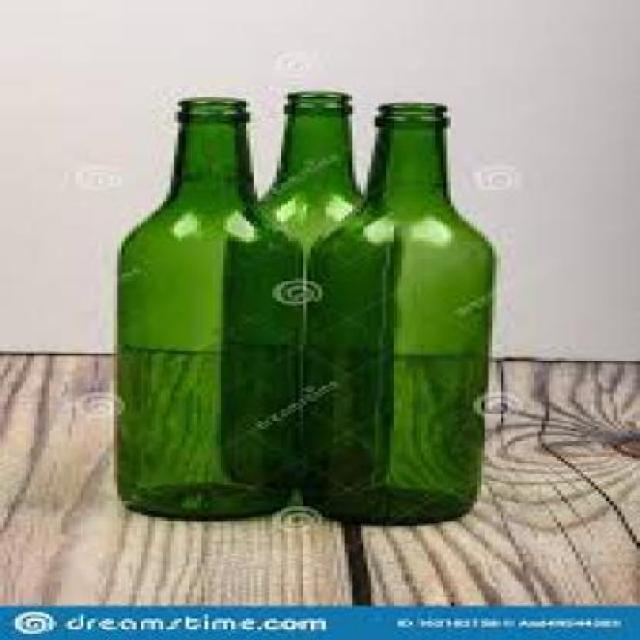kaca: (296, 101, 496, 522), (114, 96, 280, 522), (212, 91, 383, 486)
